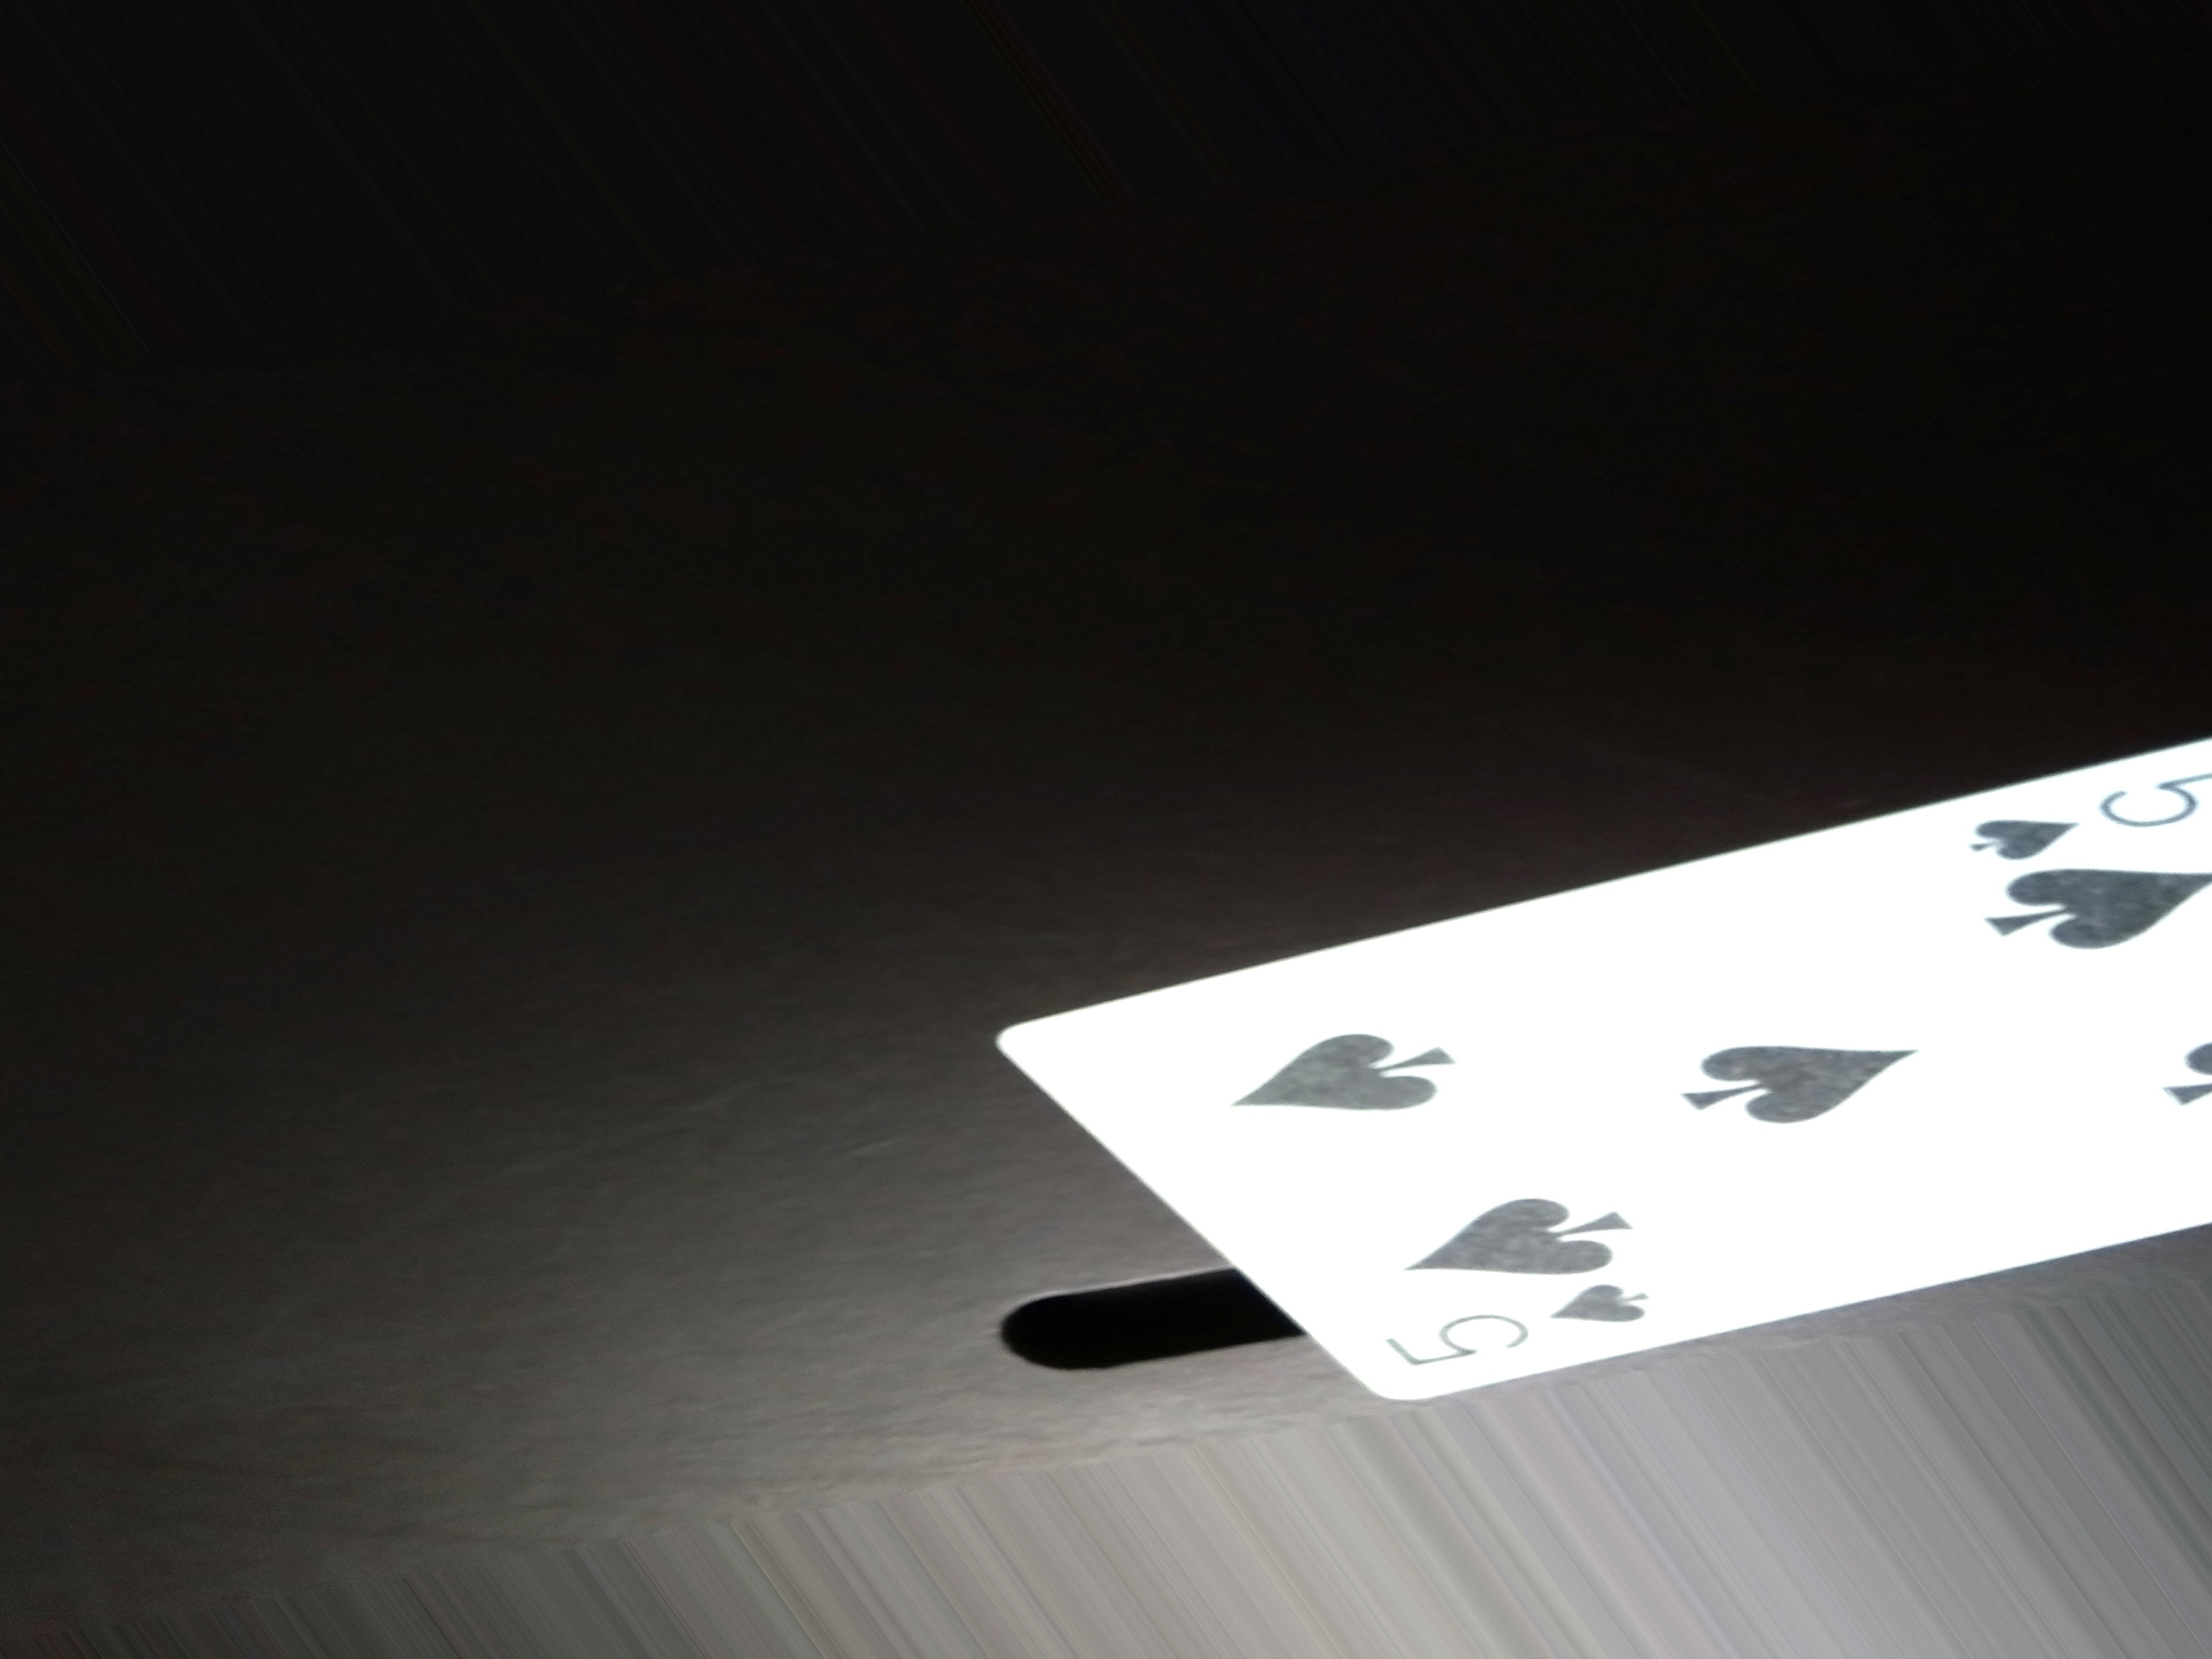5S: (1339, 1276, 1662, 1370)
